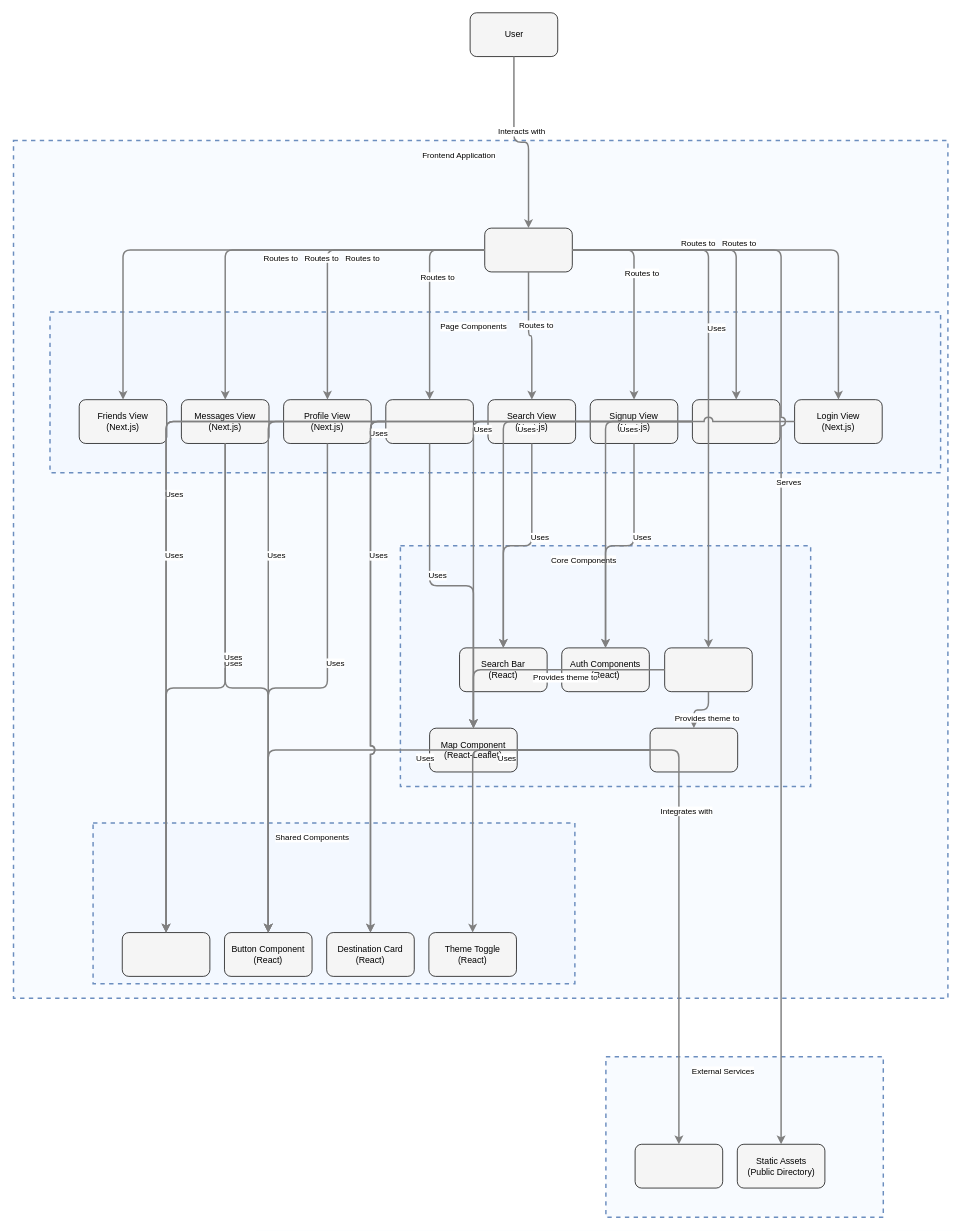
Some shapes in this 961 by 1231 pixel diagram are drawn without their labels. Each missing label, with the centre of its shape:
"Home View (Next.js)" goes at (x=736, y=421).
"Input Component (React)" goes at (x=166, y=954).
"Listing View (Next.js)" goes at (x=429, y=421).
"Map Service (Leaflet)" goes at (x=678, y=1166).
"Navigation Component (React)" goes at (x=693, y=749).
"Next.js App (Next.js 15.2)" goes at (x=528, y=249).
"Theme Provider (React Context)" goes at (x=708, y=669).
